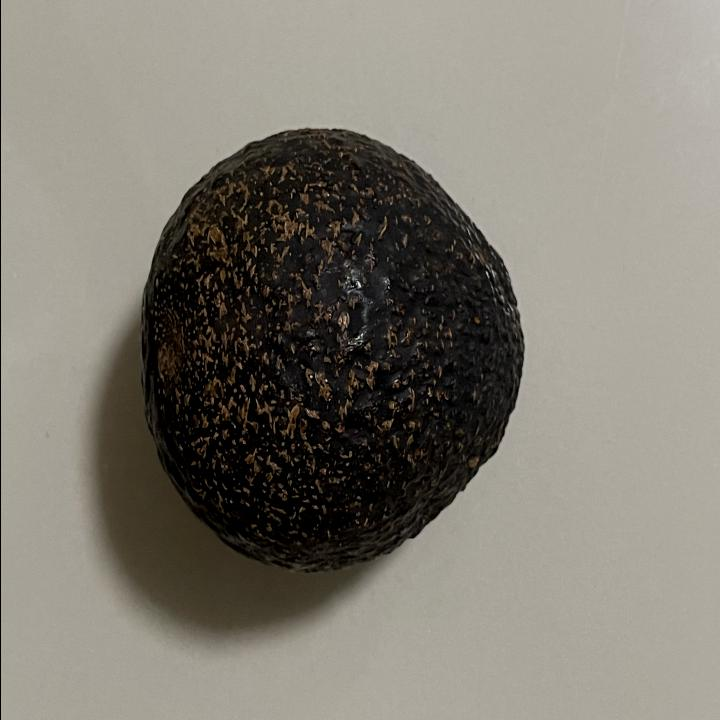Level3: (132, 114, 534, 584)
